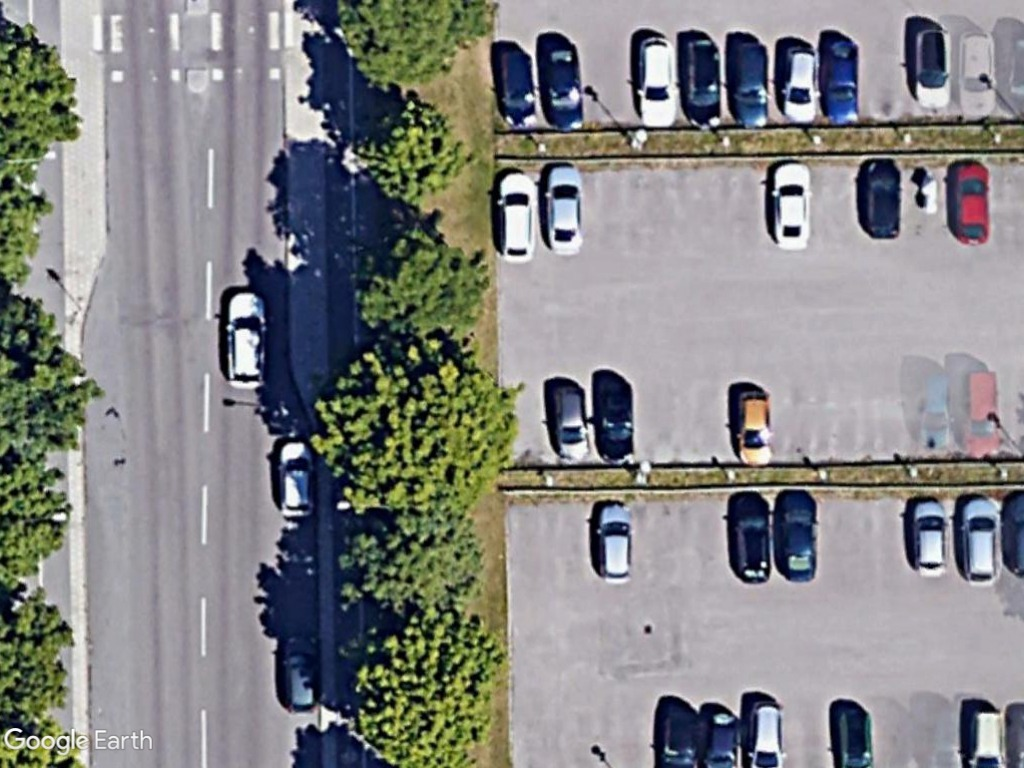car: (219, 280, 273, 396), (533, 157, 589, 263), (533, 37, 590, 134), (493, 159, 543, 269), (767, 487, 824, 583), (490, 35, 544, 136), (765, 156, 820, 255), (725, 31, 777, 133), (543, 373, 598, 469), (631, 30, 681, 133), (727, 491, 778, 590), (814, 31, 866, 128), (676, 32, 725, 134), (271, 434, 324, 527), (857, 153, 910, 246), (588, 365, 635, 469), (729, 384, 783, 474), (590, 497, 641, 590), (907, 487, 956, 583), (959, 490, 1006, 587), (946, 156, 993, 250), (910, 22, 956, 117), (775, 40, 821, 126)
